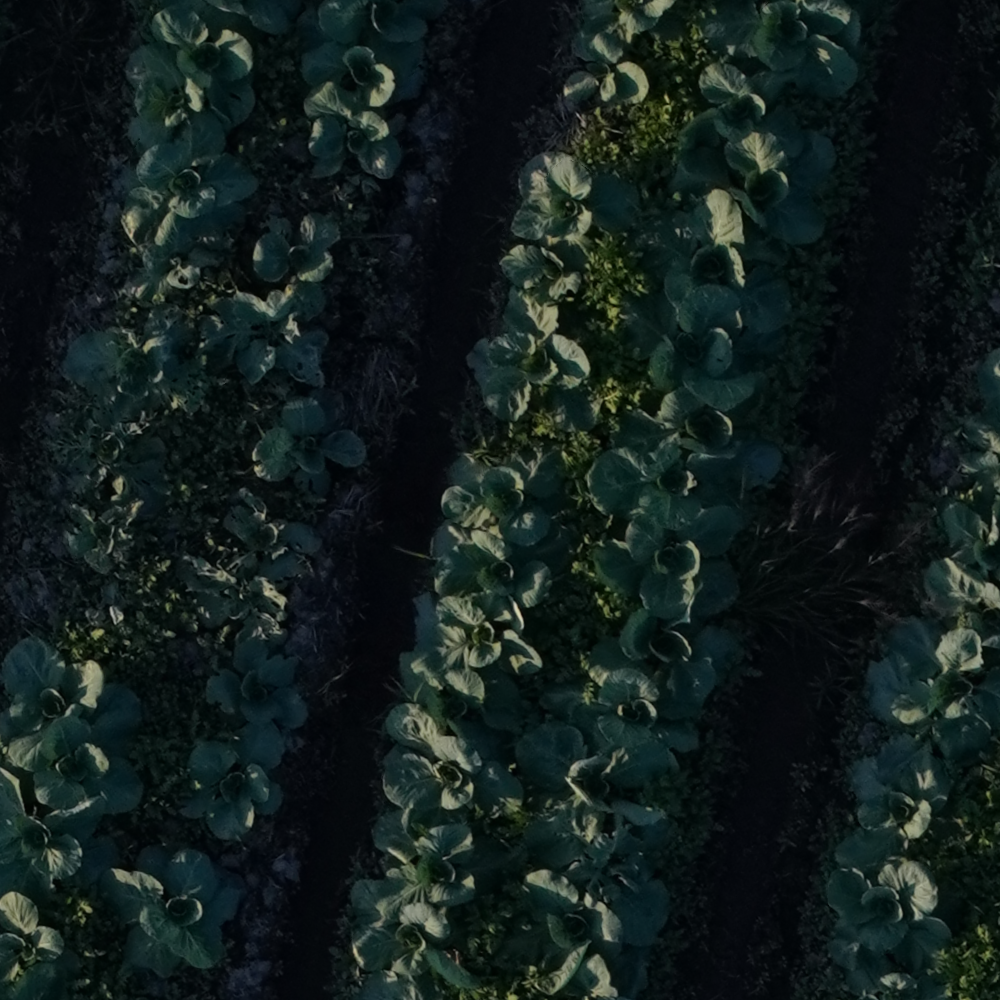Cabbage: (515, 721, 676, 896), (494, 869, 667, 1000), (640, 189, 791, 332), (623, 285, 790, 408), (351, 811, 528, 927), (381, 703, 526, 842), (865, 616, 1000, 764), (466, 286, 603, 431), (98, 847, 242, 980), (62, 302, 209, 428), (676, 130, 837, 245), (611, 387, 782, 492), (838, 725, 953, 872), (592, 507, 744, 618), (581, 609, 746, 710), (120, 109, 259, 227), (124, 4, 256, 127), (0, 769, 122, 902), (826, 857, 953, 983), (0, 636, 141, 747), (96, 190, 234, 302), (704, 0, 859, 98), (512, 152, 639, 267), (540, 669, 700, 756), (6, 718, 143, 816), (198, 284, 328, 387), (400, 652, 522, 758), (411, 593, 544, 689), (252, 386, 368, 496), (179, 723, 286, 842), (42, 409, 170, 507), (677, 62, 806, 159), (350, 902, 485, 994), (586, 446, 731, 531), (286, 82, 407, 179), (440, 453, 566, 546), (201, 627, 310, 731), (431, 520, 552, 606), (178, 554, 288, 645), (40, 491, 159, 575), (223, 487, 324, 580), (317, 0, 447, 71), (0, 892, 82, 1000), (302, 42, 424, 106), (562, 29, 650, 105), (254, 212, 340, 282), (128, 73, 195, 149), (498, 243, 581, 304), (7, 964, 112, 1000), (583, 0, 675, 35), (844, 969, 951, 999), (356, 972, 423, 999)
